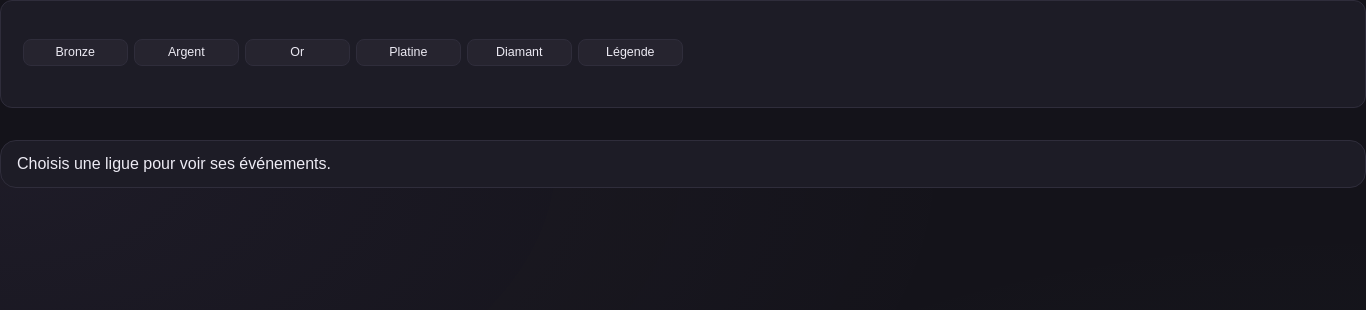
Scenario: EventsReferenceTable › shows an empty message for a league with no events yet
This screenshot has width=1366, height=310.
Click the button "Légende" at (630, 52), box [578,39,683,66]
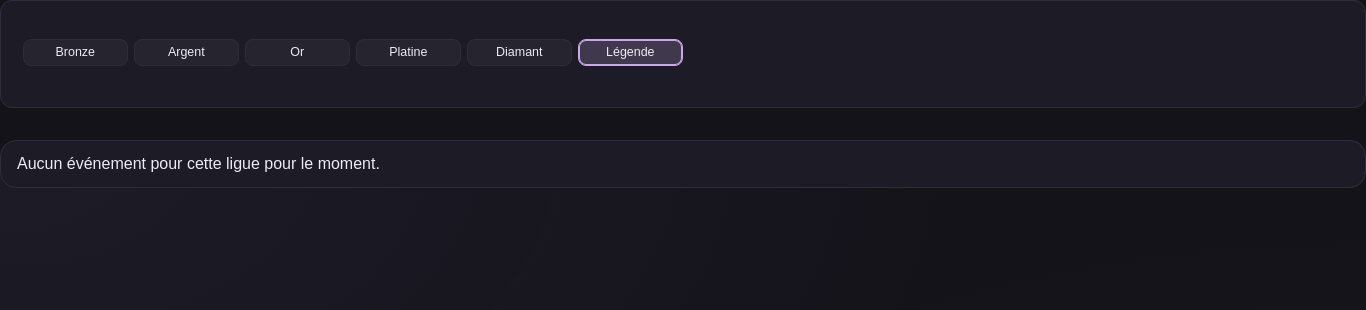
Check: the message reads "Aucun événement pour cette ligue pour le moment.", box [17,155,380,172]
